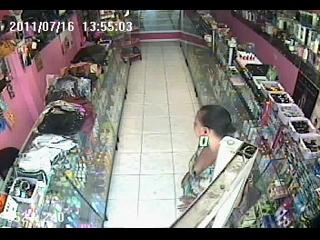Normal: (181, 104, 236, 205)
